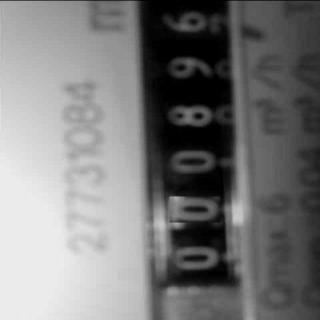1: (168, 242, 220, 275), (167, 148, 220, 175), (170, 196, 221, 222)
7: (161, 8, 211, 34)
9: (164, 101, 216, 130)
:: (165, 54, 215, 82)
